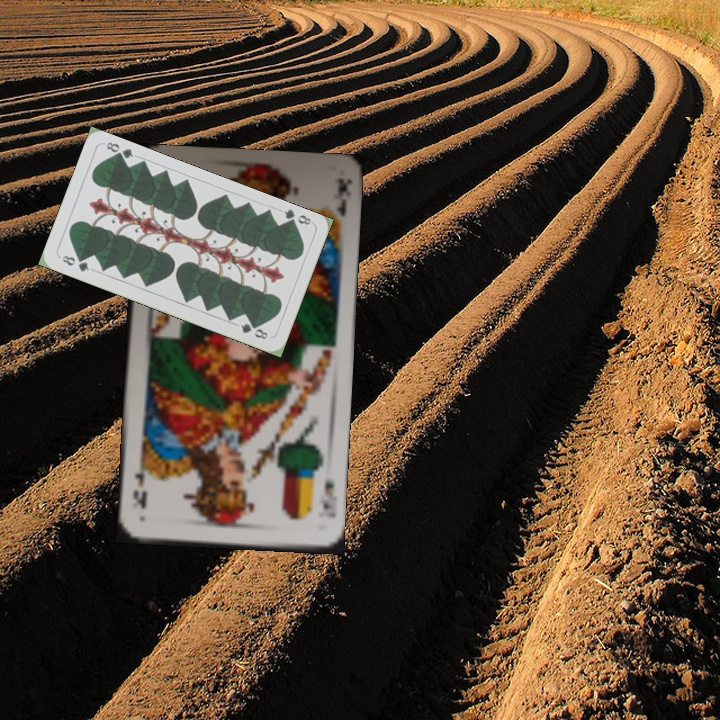EK: (319, 474, 338, 522)
G8: (280, 205, 314, 229), (58, 251, 92, 274)
